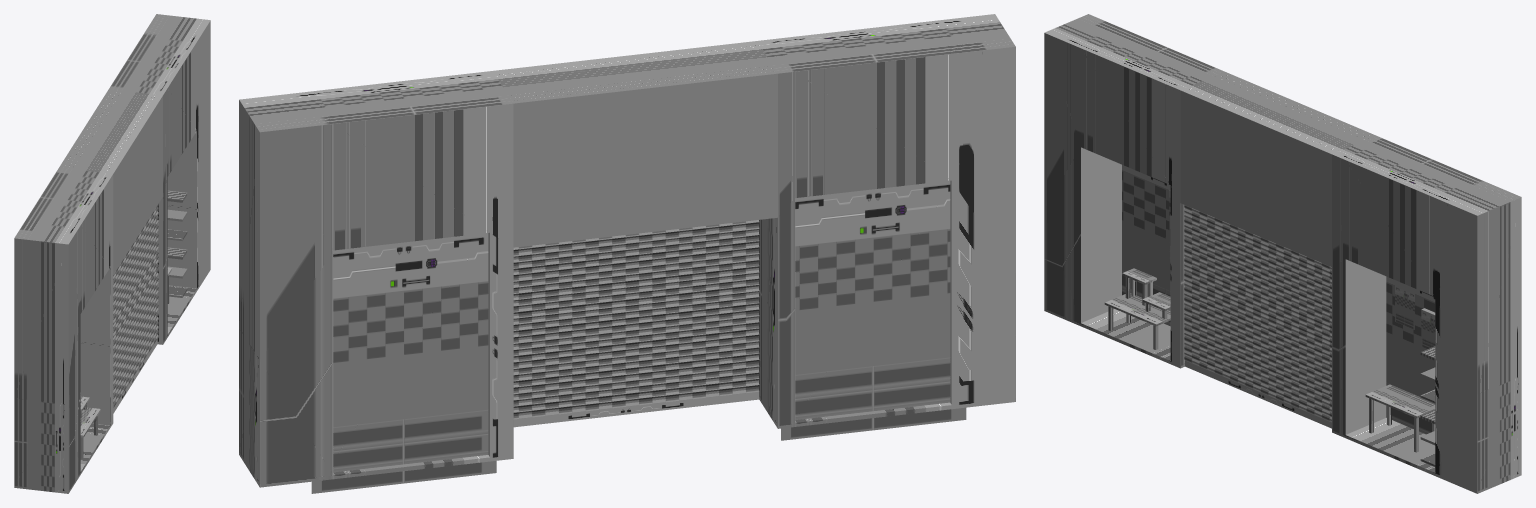
File: TEEEESSSTT222222222.FBX
3 views of the same model, side by side, from view 1: azimuth 30°, elevation 25°; view 2: azimuth 150°, elevation 25°; view 3: azimuth 270°, elevation 25° (orthographic). The views are drawn at different scales.
Parts seen in each view (by area): view 1: 8; view 2: 8; view 3: 8.
Part boxes in pixels (x1,y1,x2,y2): 8: (14,14,210,493); 8: (239,14,1015,493); 8: (1044,14,1521,493).
Size of the model in its own units: 13.23 by 8.86 by 13.23.
